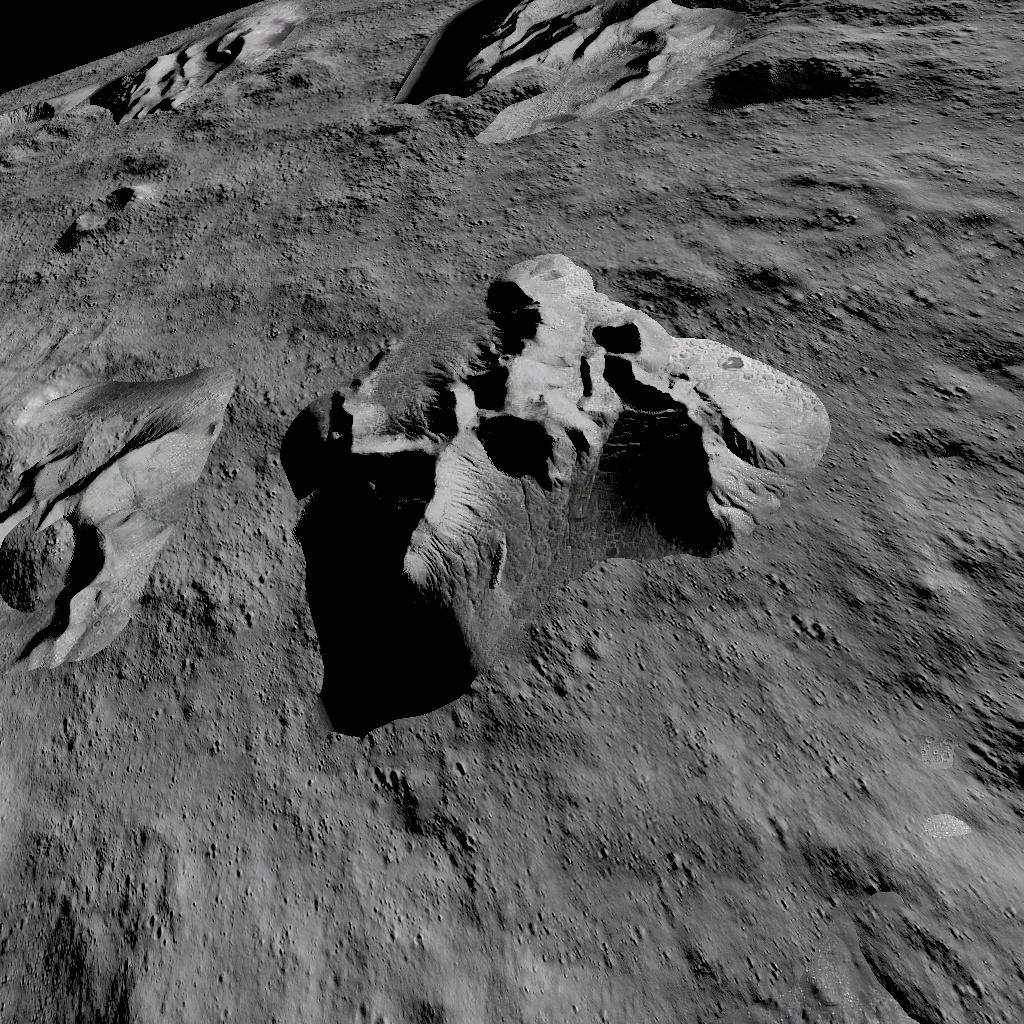Boulders: (276, 248, 826, 735), (0, 350, 236, 708), (392, 0, 888, 165), (92, 21, 275, 130)
Crater: (42, 187, 160, 261), (0, 93, 83, 170), (283, 70, 313, 94)
Plan surface: (4, 763, 1024, 1021), (843, 184, 1024, 746), (190, 148, 377, 234)
